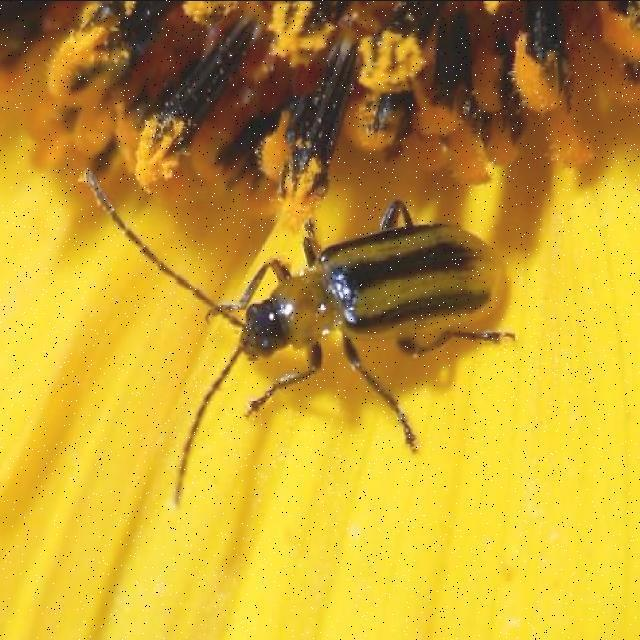trips: (88, 96, 539, 517)
